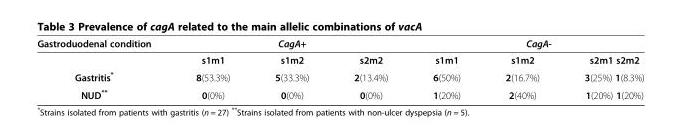table: (36, 37, 643, 100)
table column: (36, 37, 172, 100), (561, 37, 643, 100), (172, 37, 251, 100), (251, 37, 330, 100), (330, 37, 409, 100), (482, 37, 561, 100), (409, 37, 482, 100)
table column header: (36, 37, 643, 67)
table row: (36, 67, 643, 85), (36, 51, 643, 67), (36, 85, 643, 100), (36, 37, 643, 51)
table spanning cell: (36, 37, 172, 67), (172, 37, 409, 51), (409, 37, 643, 51)
